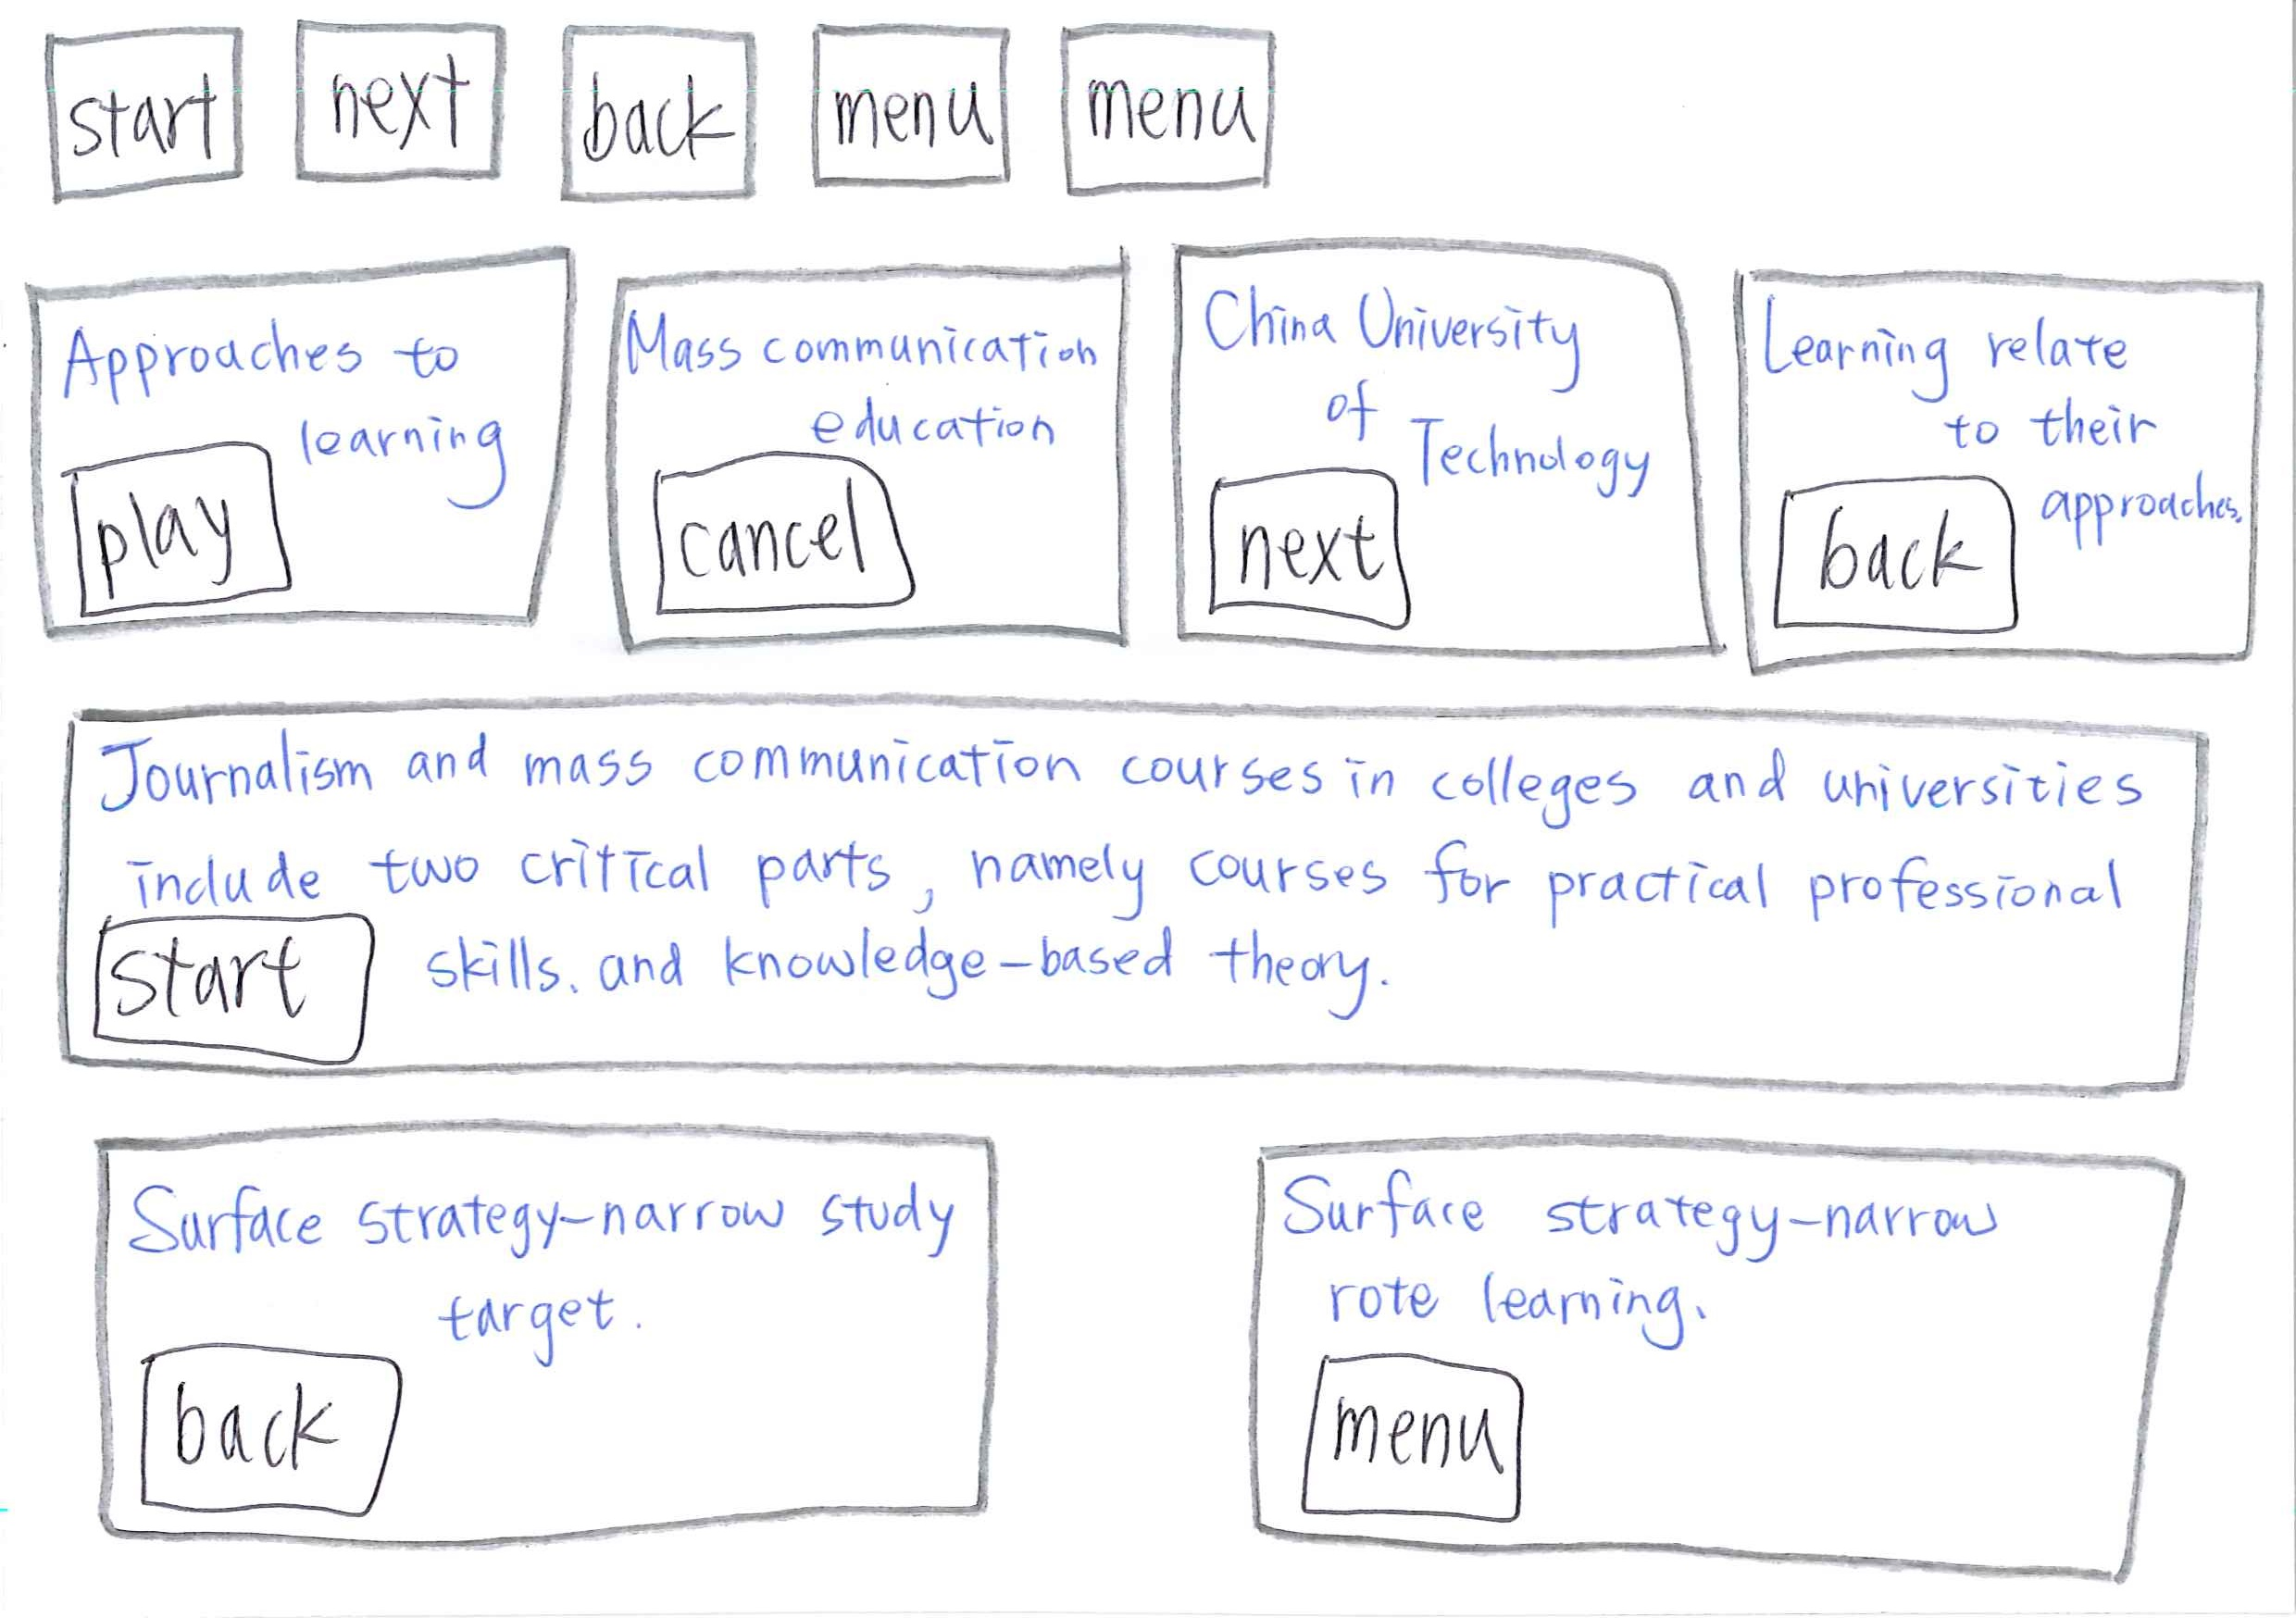back: (121, 1334, 410, 1527), (1758, 466, 2035, 644), (534, 19, 767, 217)
cancel: (629, 448, 932, 623)
double: (1207, 1114, 2191, 1583), (68, 1087, 1051, 1557)
menu: (1278, 1348, 1560, 1536), (790, 9, 1039, 210), (1049, 9, 1292, 212)
next: (270, 2, 522, 205), (1184, 445, 1448, 634)
play: (37, 433, 308, 627)
quadruple: (1133, 231, 1736, 676), (1722, 242, 2296, 688), (7, 242, 592, 648), (574, 247, 1159, 653)
row: (14, 1103, 2296, 1607), (14, 674, 2296, 1138), (14, 228, 2296, 690), (5, 9, 2296, 222)
single: (37, 672, 2257, 1138)
small-title: (93, 730, 2142, 830), (131, 1170, 947, 1278), (1289, 1171, 2056, 1256), (1186, 285, 1711, 385), (61, 319, 482, 413), (637, 296, 1098, 371), (1758, 298, 2177, 378)
start: (77, 904, 382, 1070), (23, 11, 270, 203)
text: (96, 818, 2133, 918), (422, 904, 1412, 1016), (1317, 378, 1645, 489), (1317, 1268, 1737, 1341), (299, 406, 501, 480), (2051, 462, 2242, 529), (814, 387, 1040, 441), (448, 1280, 646, 1336), (1961, 401, 2177, 450)
